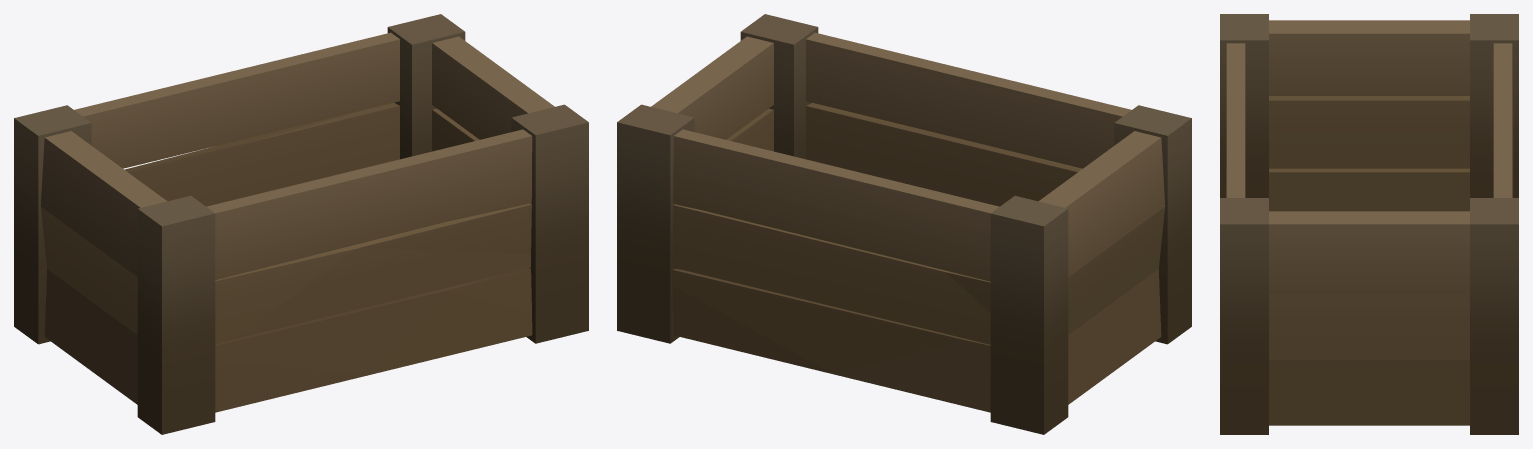
Rendered from WoodenCrate_L.gltf.
3 views of the same model, side by side, from view 1: azimuth 30°, elevation 25°; view 2: azimuth 150°, elevation 25°; view 3: azimuth 270°, elevation 25° (orthographic).
Visible parts, largest first — view 1: WoodenCrate_L; view 2: WoodenCrate_L; view 3: WoodenCrate_L.
Part boxes in pixels (x1,y1,x2,y2): WoodenCrate_L: (14,14,588,434); WoodenCrate_L: (617,14,1191,434); WoodenCrate_L: (1220,14,1518,434).
Bounding box in the file's own units: 1.5 × 0.7 × 0.9.
Materials: 1 (1 with a texture image).
